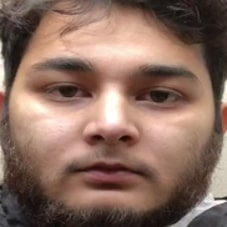awake: (27, 44, 207, 196)
